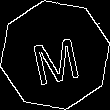M_N: (27, 26, 83, 84)
